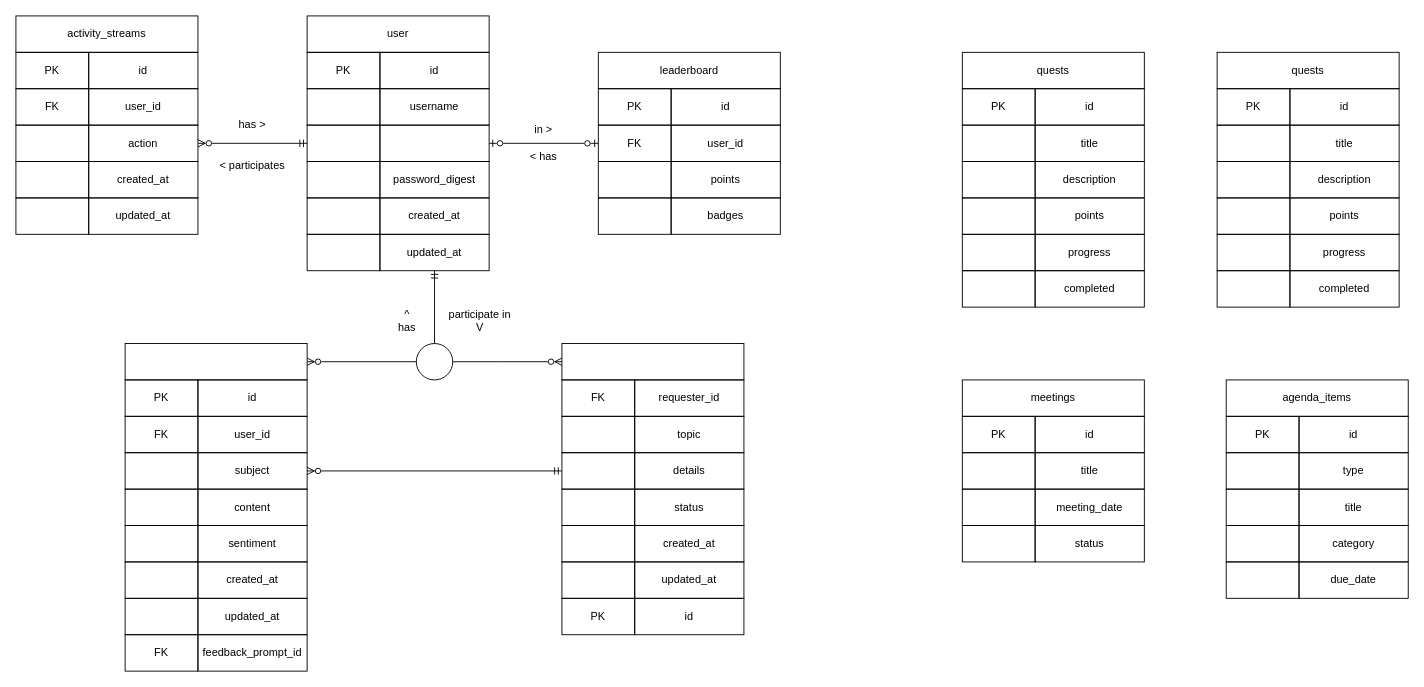
Some shapes in this 1424 by 687 pixel diagram are drawn without their labels. Each missing label, with the centre of its shape:
"email" belongs at point (434, 143).
"feedback_prompts" belongs at point (652, 361).
"feedback_submissions" belongs at point (215, 361).
